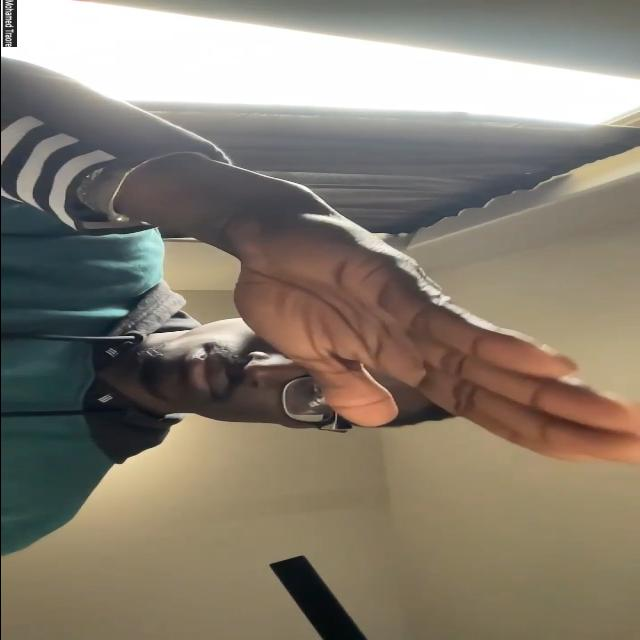Paper: (234, 192, 640, 468)
